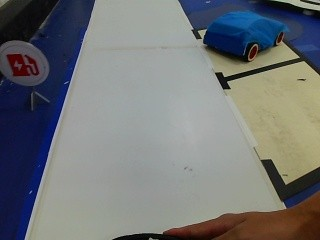battery: (0, 40, 45, 89)
car: (203, 8, 286, 63)
